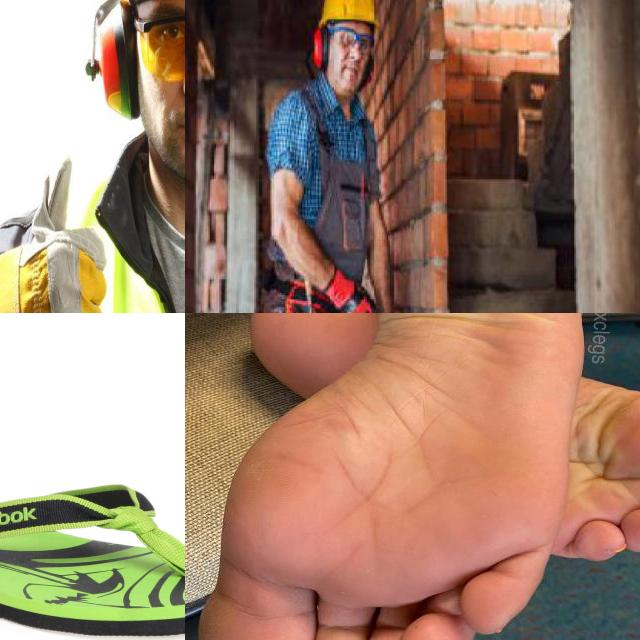Barefoots: (234, 313, 571, 640), (222, 313, 640, 563)
Ear-protection: (86, 0, 145, 125), (298, 22, 392, 90)
Sandals: (0, 481, 185, 638)
glasses: (137, 16, 185, 83), (325, 21, 376, 55)
head_helmet: (310, 0, 384, 33)
person: (0, 0, 185, 313), (242, 0, 422, 313)
vest: (23, 149, 185, 313)
